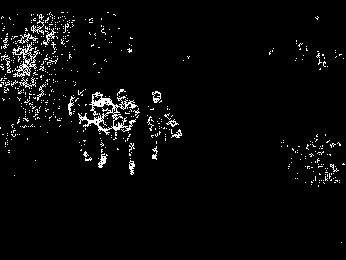person: (148, 87, 189, 189), (62, 89, 95, 179), (117, 88, 141, 189), (94, 90, 117, 185)
